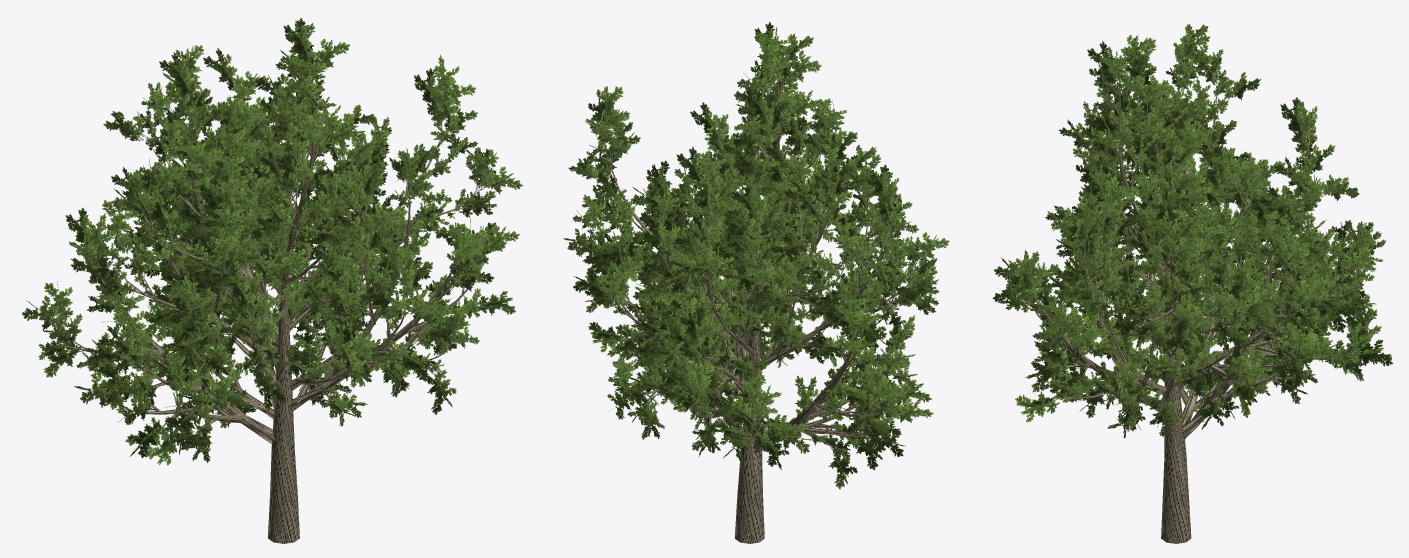
The model's file is tree_LOD1.glb.
3 views of the same model, side by side, from view 1: azimuth 30°, elevation 25°; view 2: azimuth 150°, elevation 25°; view 3: azimuth 270°, elevation 25° (orthographic). The views are drawn at different scales.
Visible parts, largest first — view 1: Leaves_LOD1, Branches_LOD1; view 2: Leaves_LOD1, Branches_LOD1; view 3: Leaves_LOD1, Branches_LOD1.
Part boxes in pixels (x1,y1,x2,y2): Leaves_LOD1: (22, 18, 522, 465); Branches_LOD1: (57, 74, 489, 543); Leaves_LOD1: (563, 22, 949, 489); Branches_LOD1: (594, 61, 915, 543); Leaves_LOD1: (992, 24, 1393, 438); Branches_LOD1: (1030, 74, 1362, 543).
Size of the model in its own units: 92.03 by 110 by 79.63.
2 materials, 2 textured.
